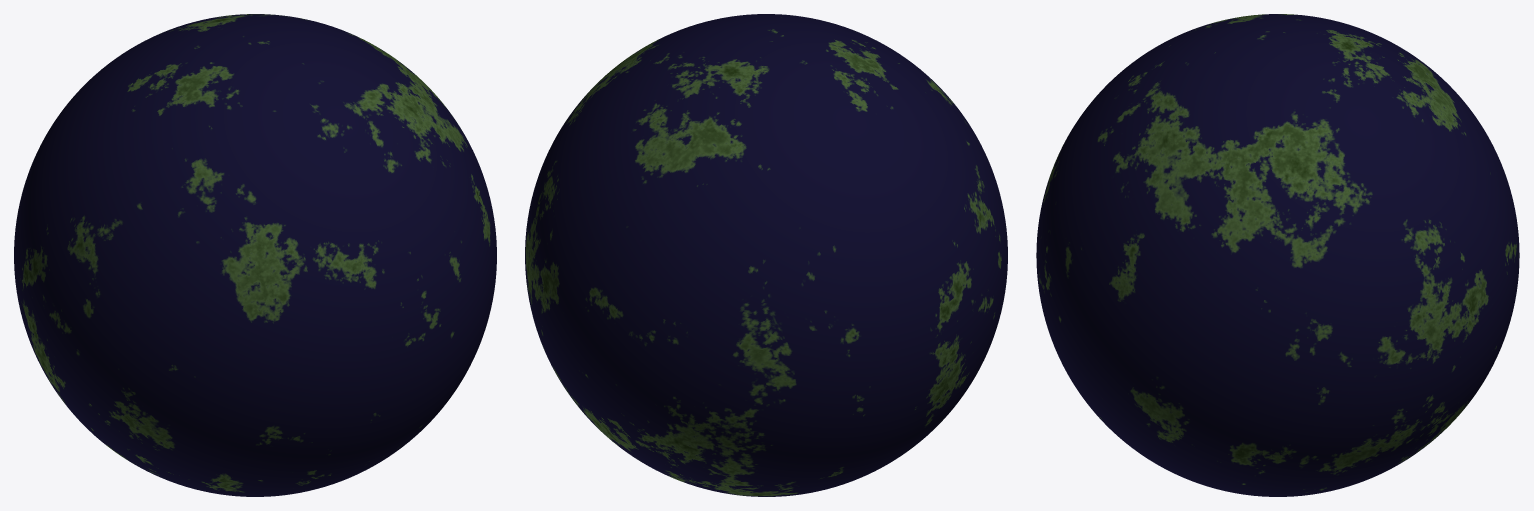
Rendered from Hyangwan.glb.
3 renders of one model, left to right at view 1: azimuth 30°, elevation 25°; view 2: azimuth 150°, elevation 25°; view 3: azimuth 270°, elevation 25°, orthographic.
Visible parts, largest first — view 1: Planet; view 2: Planet; view 3: Planet.
Part boxes in pixels (bbox=[...]): Planet: bbox=[14, 14, 496, 496]; Planet: bbox=[525, 14, 1007, 496]; Planet: bbox=[1036, 14, 1519, 496].
Size of the model in its own units: 2 by 2 by 2.
1 material, 1 textured.
